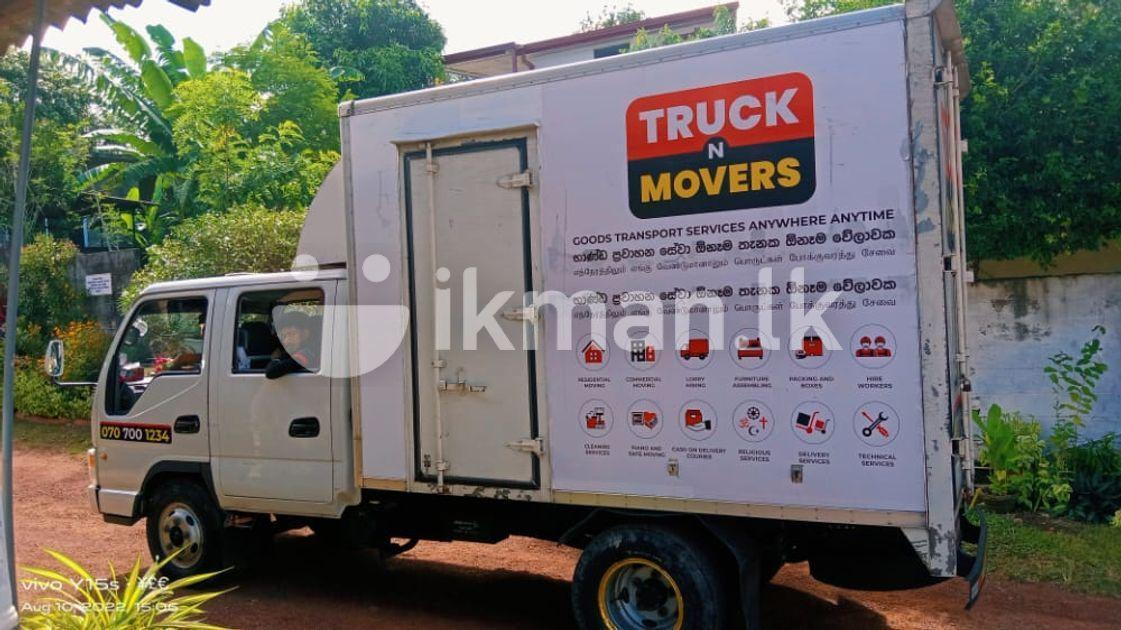truck: (46, 1, 985, 630)
